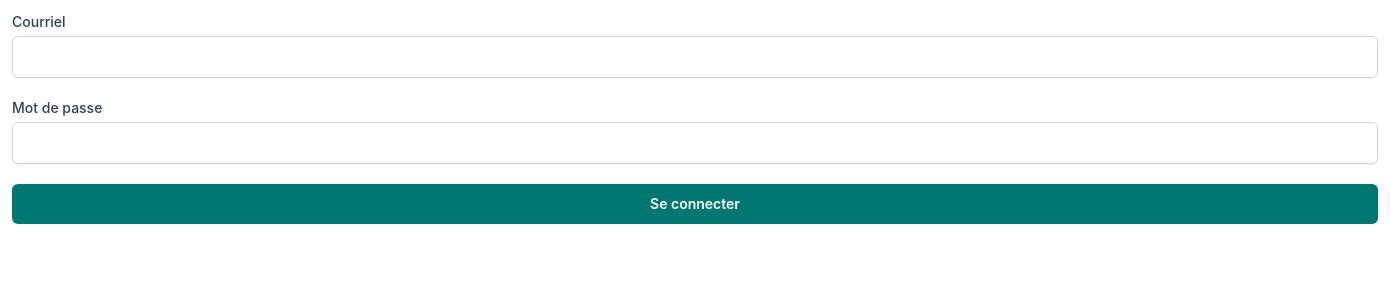
it: LoginForm › shows the lockout message after too many attempts
In the field labelled "Courriel": [695, 57] box [12,36,1378,78], type "infirmiere@cliniflow.test"
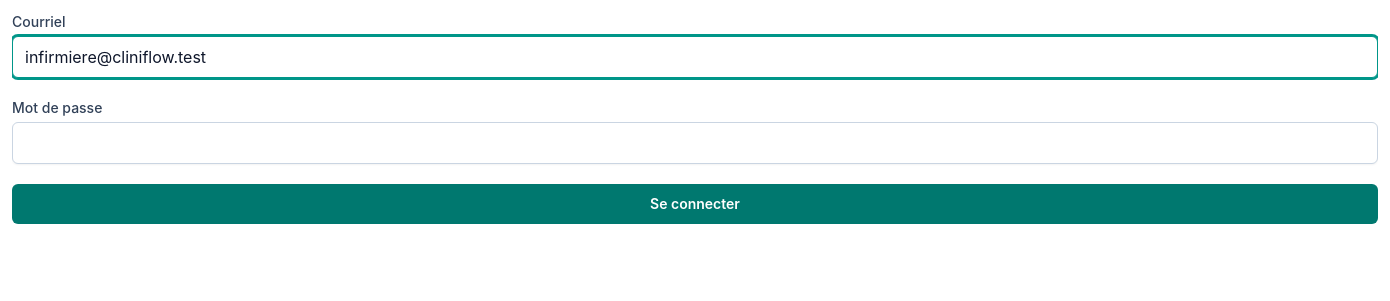
In the password field labelled "Mot de passe": [695, 143] box [12,122,1378,164], type "faux"
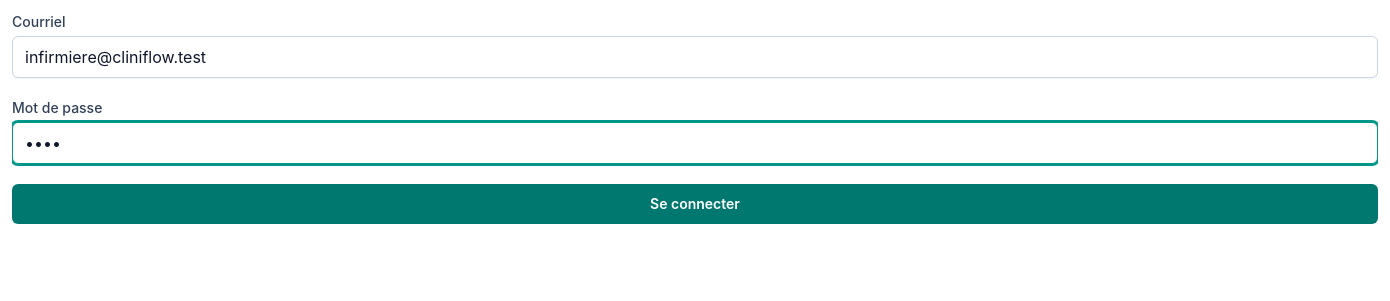
Click the button "Se connecter": [695, 204] box [12,184,1378,224]
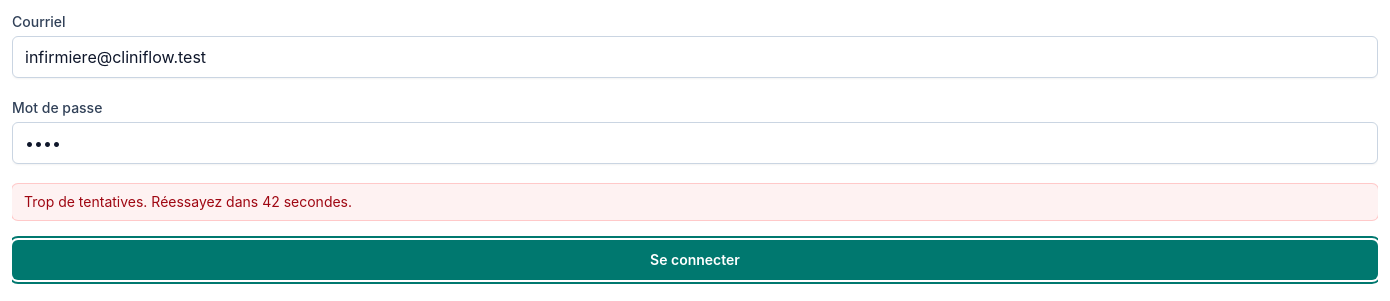
expect the message reads "Trop de tentatives. Réessayez dans 42 secondes.": met, box [24,193,352,210]
